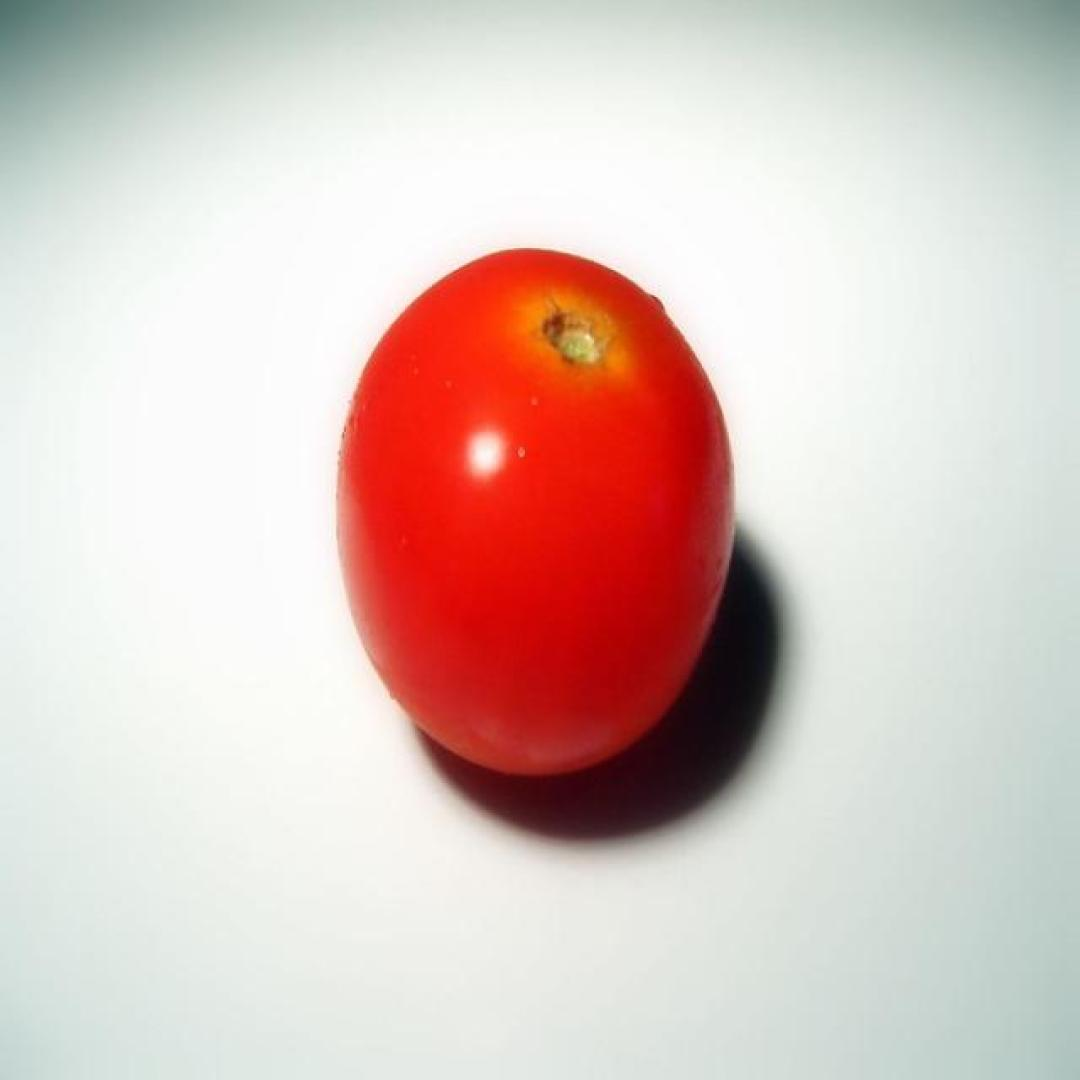matang: (334, 243, 738, 780)
